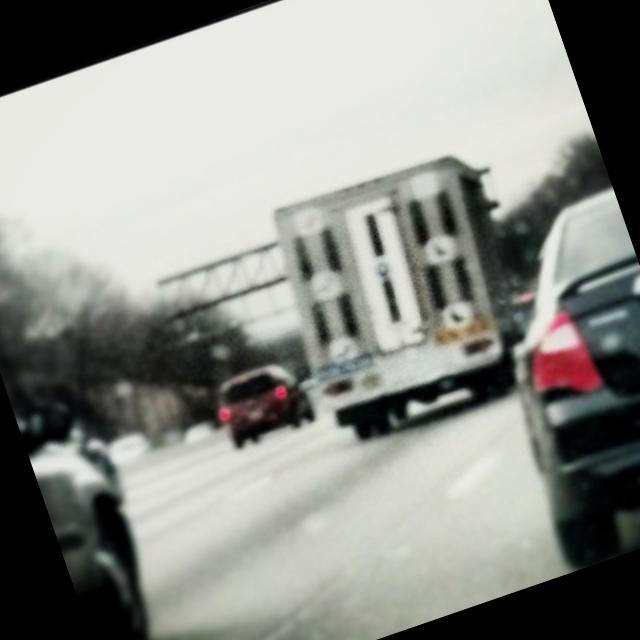Vehicle: (256, 138, 560, 452), (450, 181, 640, 574), (0, 331, 177, 640), (203, 352, 320, 454)
